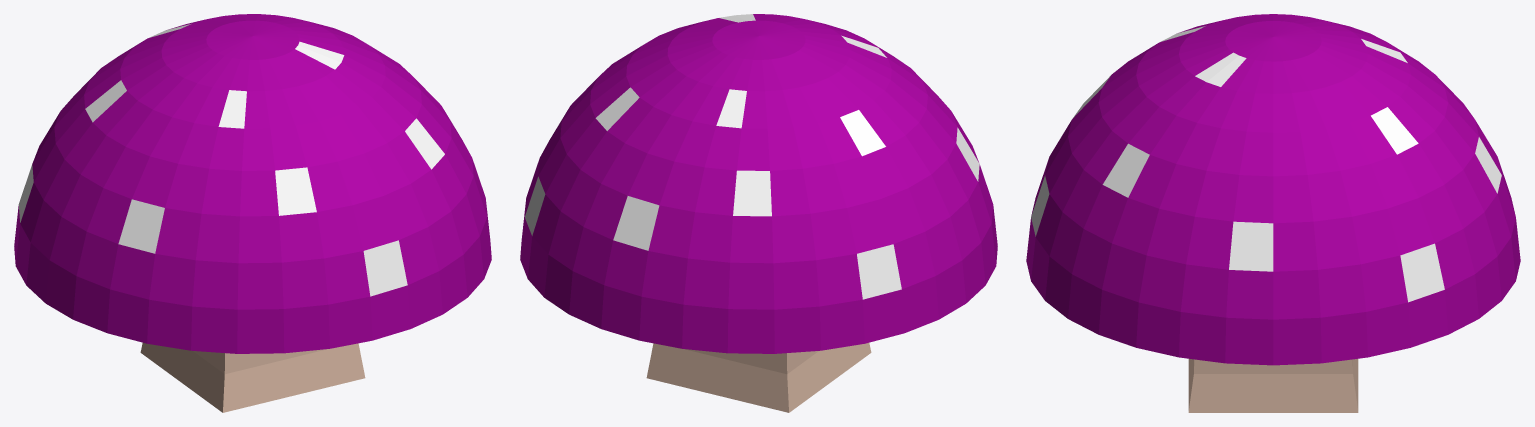
File: Mushroom_purple.fbx
3 renders of one model, left to right at view 1: azimuth 30°, elevation 25°; view 2: azimuth 150°, elevation 25°; view 3: azimuth 270°, elevation 25°, orthographic. The views are drawn at different scales.
Visible parts, largest first — view 1: Mushroom; view 2: Mushroom; view 3: Mushroom.
Part boxes in pixels (x1,y1,x2,y2): Mushroom: [14, 14, 491, 412]; Mushroom: [520, 14, 997, 412]; Mushroom: [1026, 14, 1520, 412].
Size of the model in its own units: 648 by 492 by 648.
